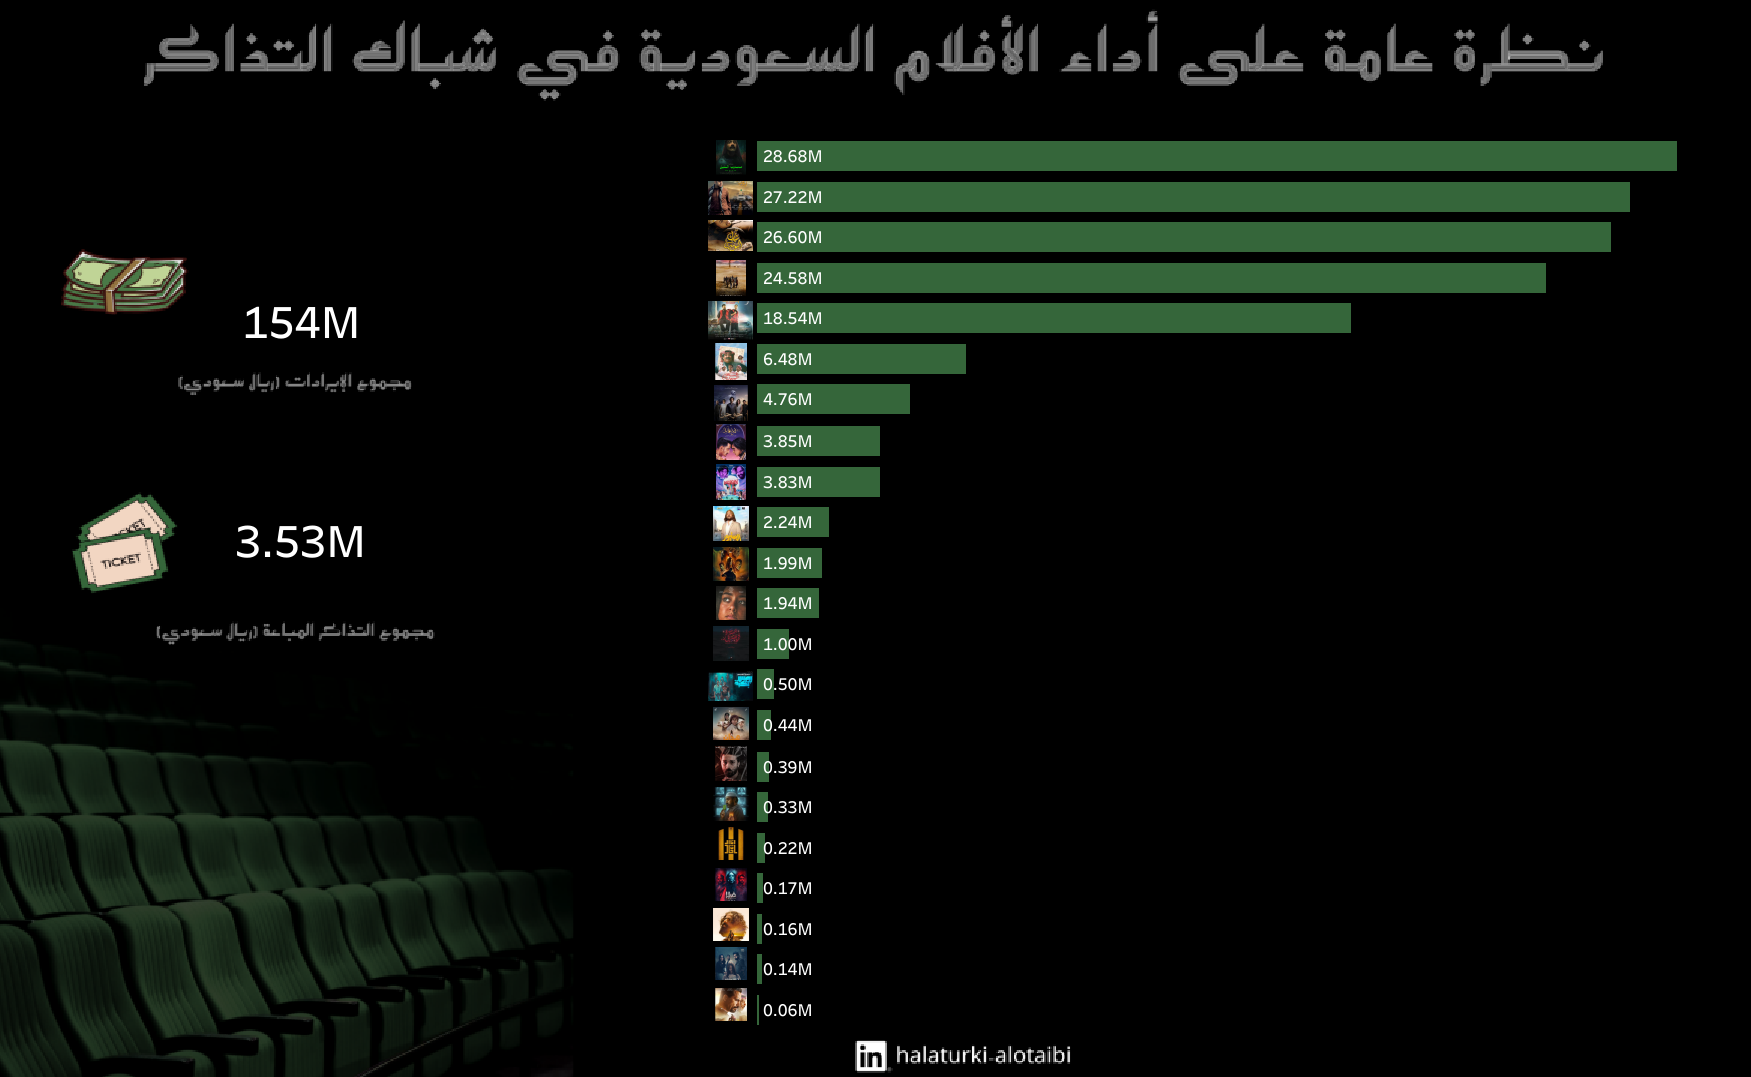

Layout of this report page (visuals, bound fields, positions):
{"tool":"tableau","page":{"name":"Dashboard 2","canvas":[1200,800],"ordinal":0},"visuals":[{"type":"image","param":"Image/Saas Performance Dashboard (1).png","box":[0,0,1200,800]},{"type":"worksheet","title":"Sheet 5","mark":"Automatic","rows":["اسم الفيلم"],"cols":["مجموع الإيرادات"],"box":[522,113,644,612]},{"type":"worksheet","title":"Sheet 4","mark":"Shape","rows":["اسم الفيلم","مجموع الإيرادات"],"box":[403,116,202,602]},{"type":"worksheet","title":"Sheet 1","mark":"Automatic","box":[142,198,154,91]},{"type":"worksheet","title":"Sheet 2","mark":"Automatic","box":[148,348,140,83]}]}

Visuals, with their boxes on the page's 1200x800 design canvas (x1, y1, x2, y2). These are canvas units, not pixel positions in the 1751x1077 screenshot, which may show the page scaled, cropped or inside an application window:
image: bbox(0, 0, 1200, 800)
"Sheet 5" worksheet: bbox(522, 113, 1166, 725)
"Sheet 4" worksheet (Shape marks): bbox(403, 116, 605, 718)
"Sheet 1" worksheet: bbox(142, 198, 296, 289)
"Sheet 2" worksheet: bbox(148, 348, 288, 431)
